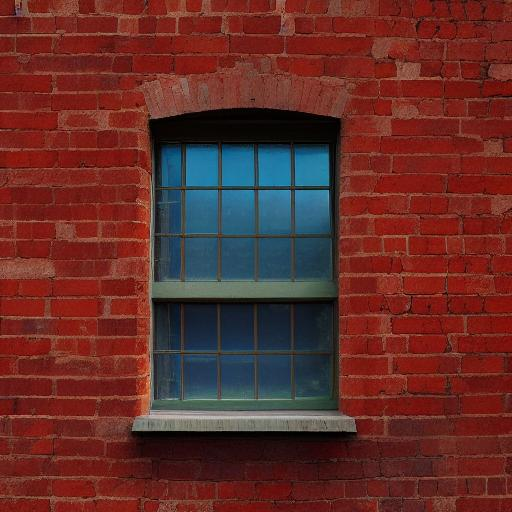Window: (130, 71, 361, 435)
